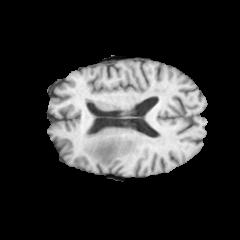glioma: (85, 131, 138, 165)
